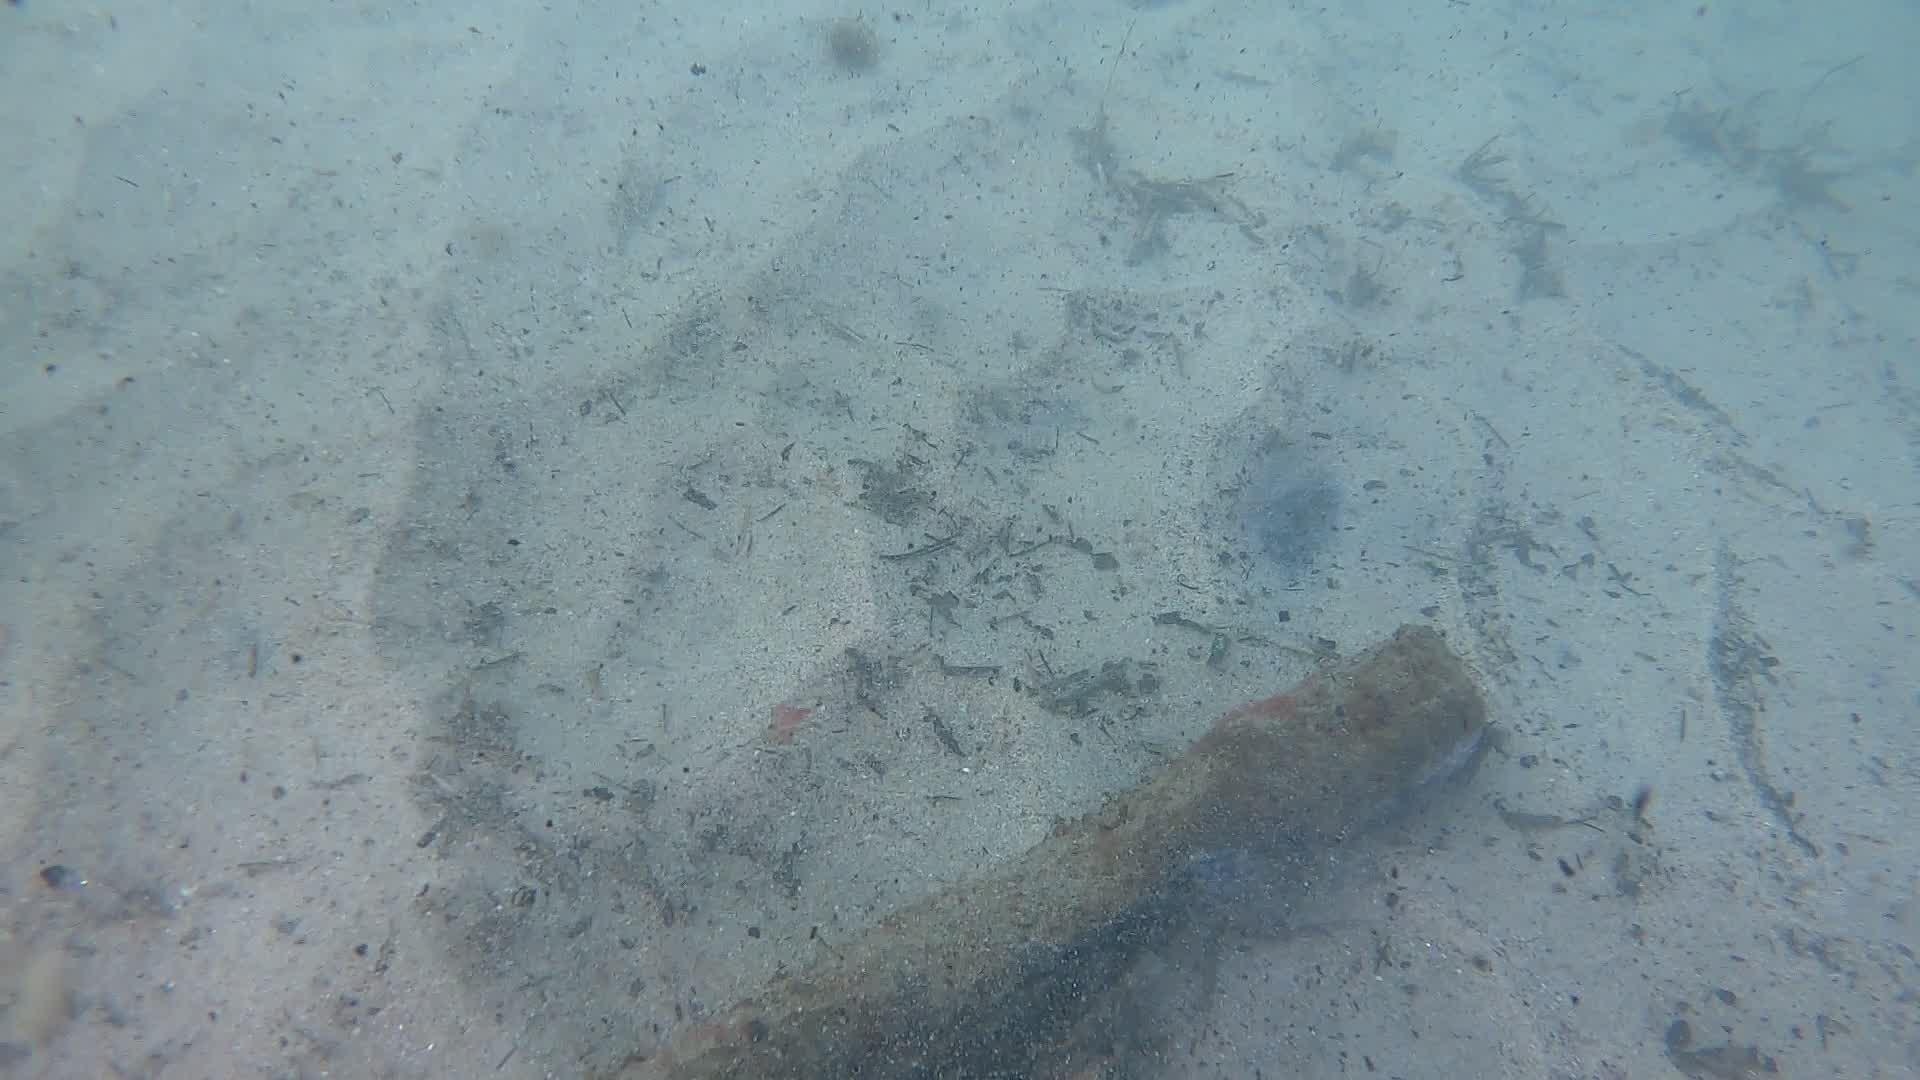wood: (694, 622, 1487, 1080)
